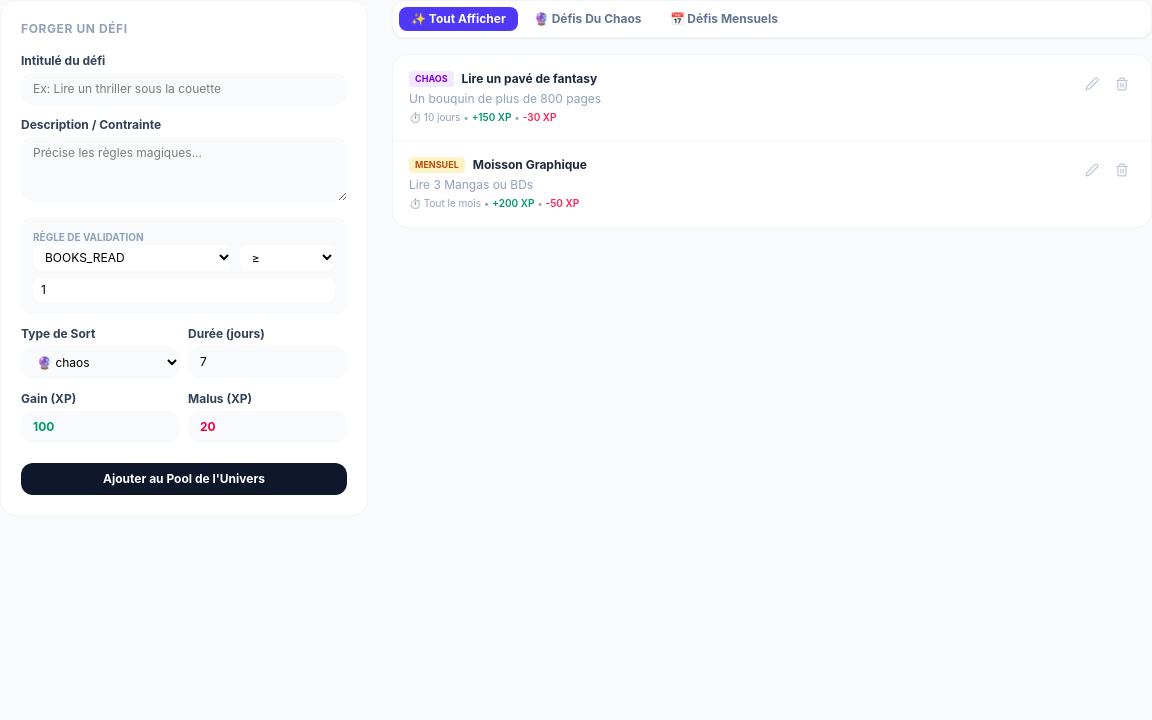
Test: Component - AdminChallenge › devrait afficher la liste des défis et permettre le filtrage par type
Expected: the heading "Lire un pavé de fantasy" is shown, [462,71,597,87]
Expected: the heading "Moisson Graphique" is shown, [473,157,587,173]
// Clic sur le bouton de filtre "Défis du Chaos"
Click the button "🔮 Défis du Chaos": (588, 19) [522,7,654,31]
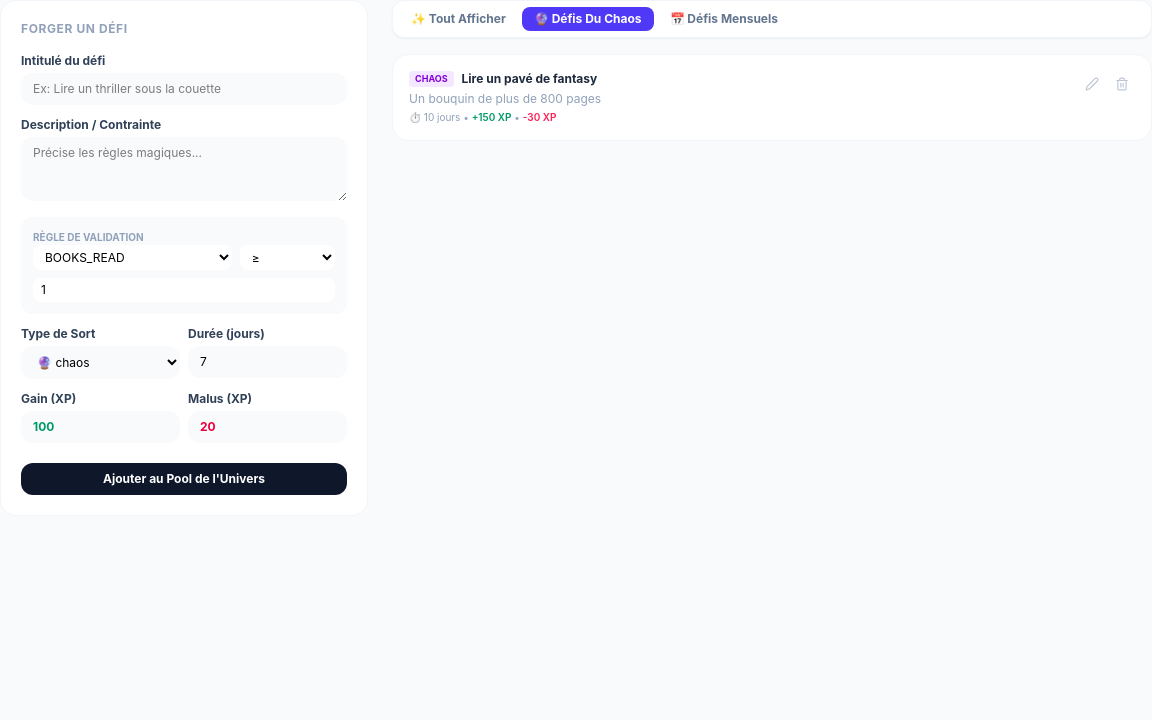
Expected: the heading "Lire un pavé de fantasy" is shown, [462,71,597,87]
Expected: the heading "Moisson Graphique" is gone
